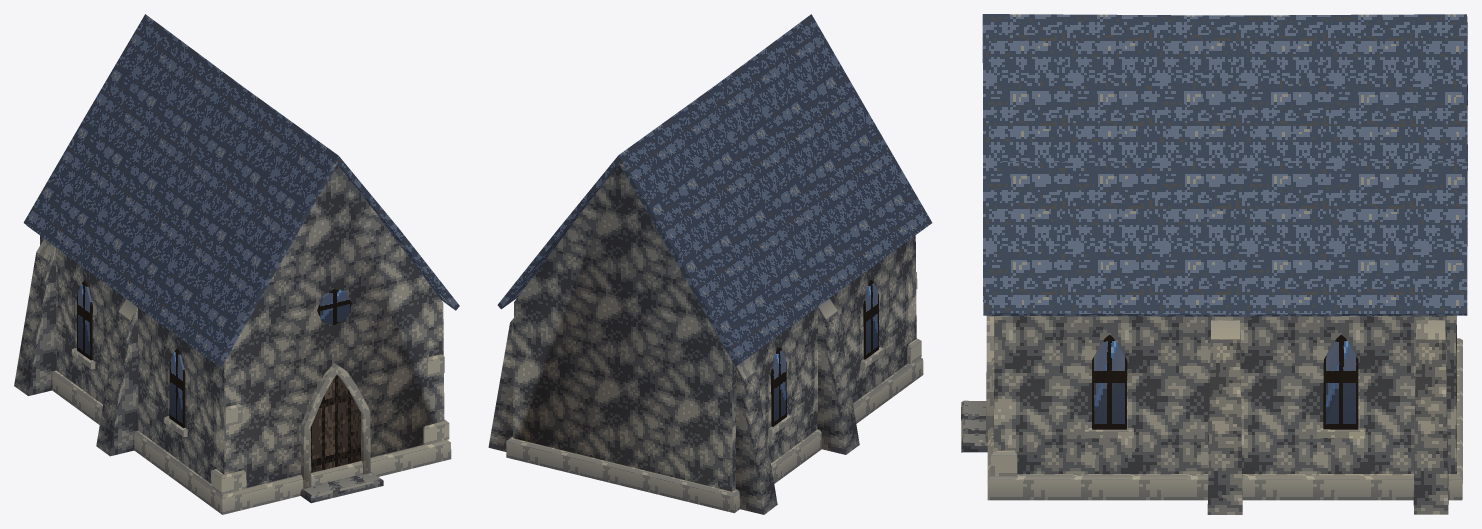
The model's file is vlg.chapel__plain.glb.
3 renders of one model, left to right at view 1: azimuth 30°, elevation 25°; view 2: azimuth 150°, elevation 25°; view 3: azimuth 270°, elevation 25°, orthographic. The views are drawn at different scales.
Parts seen in each view (by area): view 1: kit_roof, kit_walls, kit_stonework, kit_fittings; view 2: kit_walls, kit_roof, kit_stonework, kit_fittings; view 3: kit_roof, kit_walls, kit_stonework, kit_fittings.
Part boxes in pixels (bbox=[...]): kit_roof: bbox=[23, 14, 459, 367]; kit_walls: bbox=[40, 164, 444, 487]; kit_stonework: bbox=[14, 238, 451, 514]; kit_fittings: bbox=[71, 280, 383, 503]; kit_walls: bbox=[513, 165, 916, 491]; kit_roof: bbox=[497, 14, 932, 366]; kit_stonework: bbox=[488, 272, 923, 514]; kit_fittings: bbox=[768, 279, 884, 435]; kit_roof: bbox=[982, 14, 1467, 316]; kit_walls: bbox=[993, 315, 1456, 473]; kit_stonework: bbox=[987, 320, 1462, 514]; kit_fittings: bbox=[961, 315, 1365, 452].
Size of the model in its own units: 6.91 by 7.94 by 8.75.
6 materials, 6 textured.
